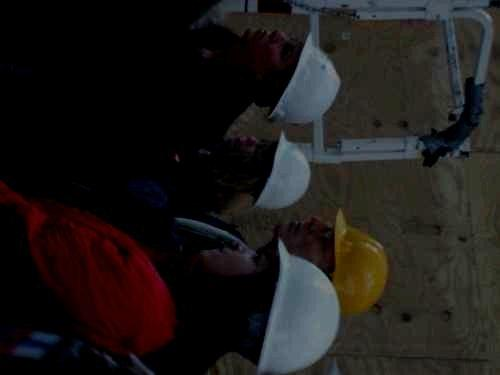helmet: (193, 237, 340, 374), (274, 208, 389, 318), (236, 28, 341, 125), (217, 127, 312, 211)
